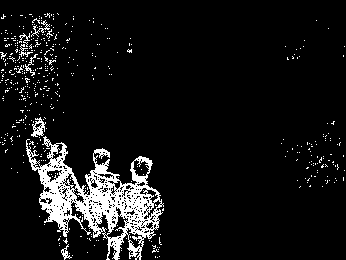person: (121, 155, 163, 255), (84, 146, 121, 235), (43, 142, 75, 235), (26, 120, 54, 172)
